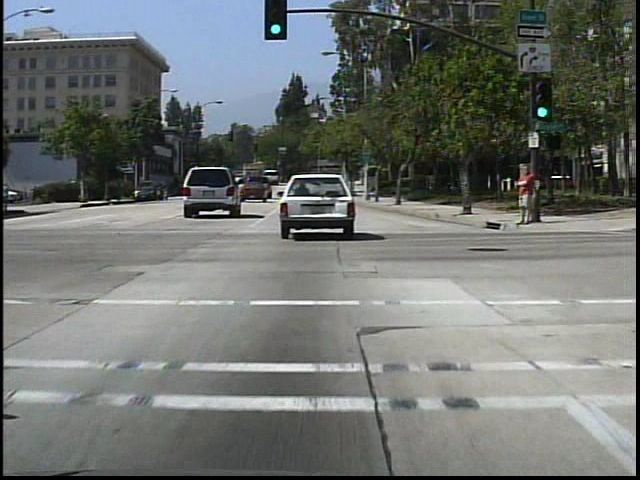person: (511, 161, 539, 228), (3, 182, 18, 211)
